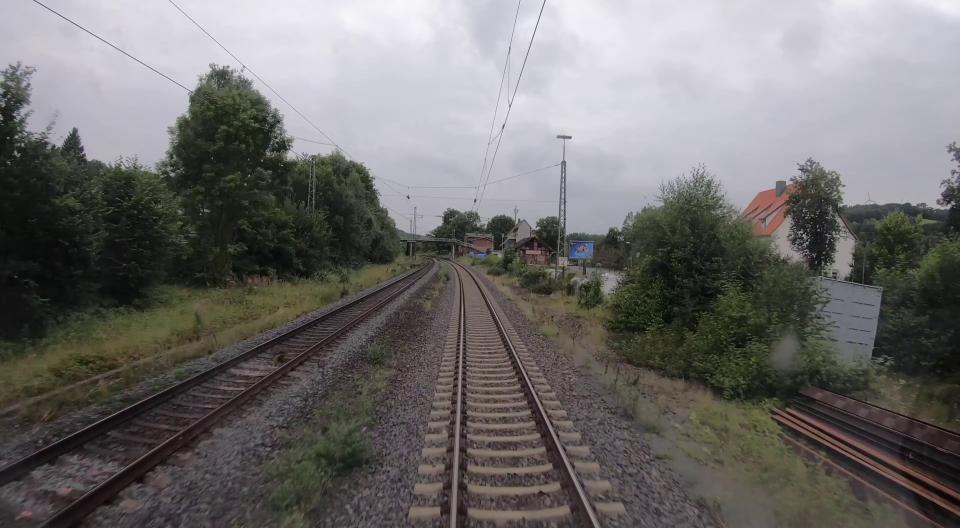Plant: (264, 371, 388, 527), (651, 436, 838, 527), (471, 264, 604, 384), (603, 360, 669, 435), (416, 264, 451, 310), (368, 343, 385, 366)
